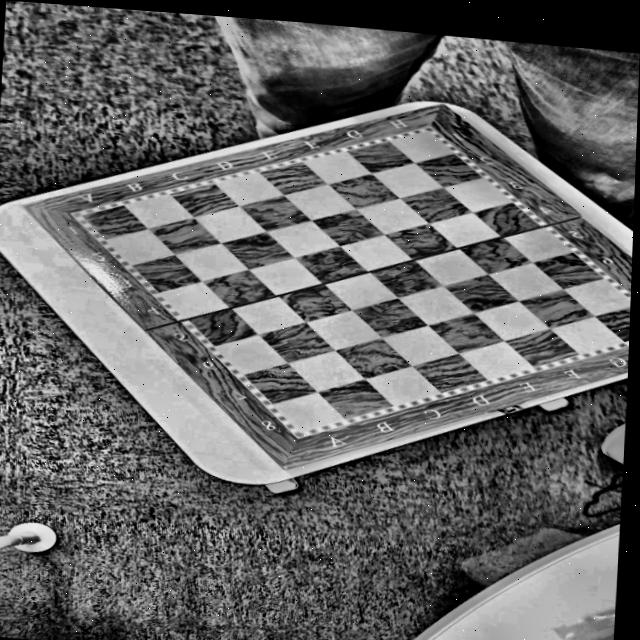chessboard: (25, 103, 632, 470)
